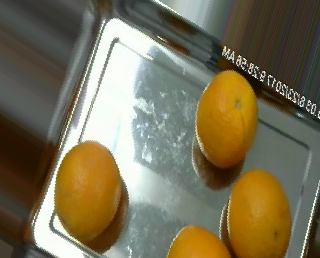Orange: (54, 139, 122, 243), (195, 69, 259, 170), (227, 167, 293, 257)
